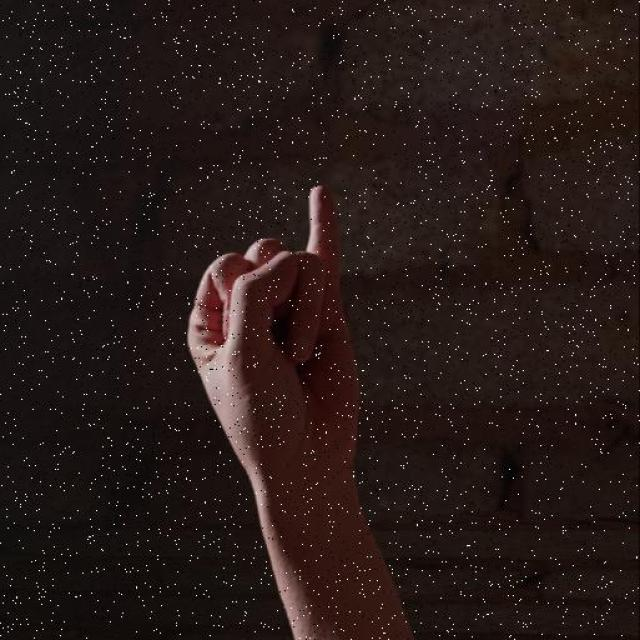I: (184, 183, 366, 482)
